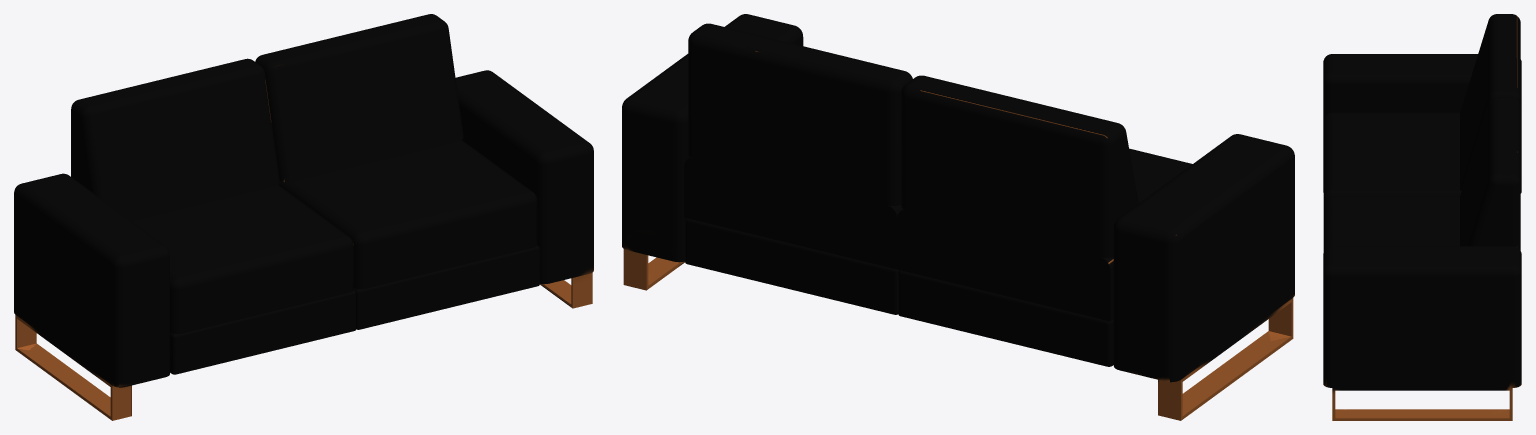
File: sofa.dae
The picture shows the model from 3 angles, left to right: view 1: azimuth 30°, elevation 25°; view 2: azimuth 150°, elevation 25°; view 3: azimuth 270°, elevation 25°; orthographic projection. The views are drawn at different scales.
Parts seen in each view (by area): view 1: 2 Persoons Bank; view 2: 2 Persoons Bank; view 3: 2 Persoons Bank.
Boxes of the visible parts, x1,y1,x2,y2 form: 2 Persoons Bank: (14,14,593,420); 2 Persoons Bank: (622,14,1294,420); 2 Persoons Bank: (1323,14,1521,420).
Size of the model in its own units: 1.7 by 0.6544 by 0.7923.
